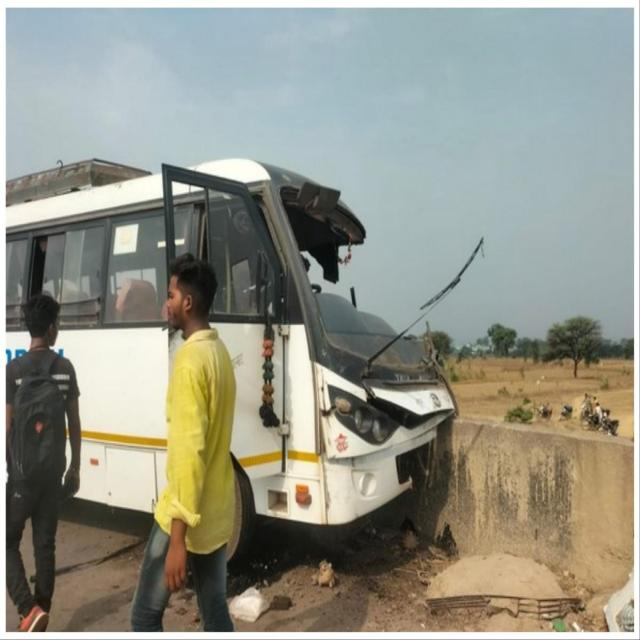accident: (5, 158, 455, 556)
